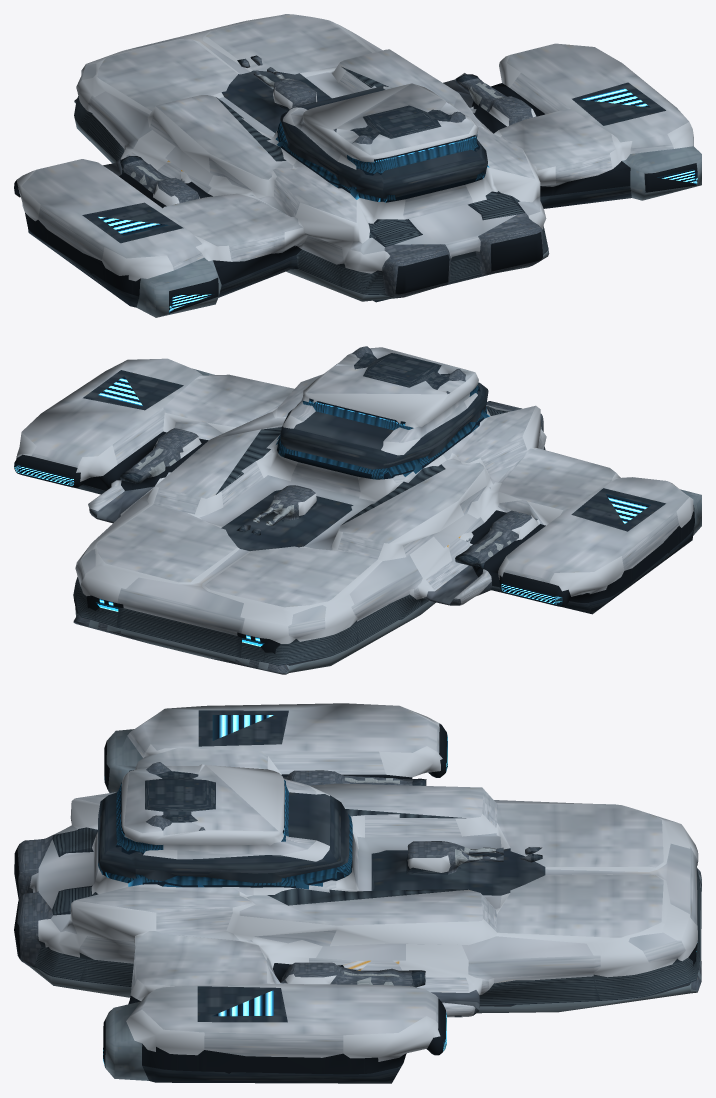
The model's file is alliance_destroyer_recreated_lod2.glb.
The picture shows the model from 3 angles, top to bottom: view 1: azimuth 30°, elevation 25°; view 2: azimuth 150°, elevation 25°; view 3: azimuth 270°, elevation 25°; orthographic projection. The views are drawn at different scales.
Visible parts, largest first — view 1: Alliance Destroyer | Horizon; view 2: Alliance Destroyer | Horizon; view 3: Alliance Destroyer | Horizon.
Boxes of the visible parts, left/top/right/bottom form: Alliance Destroyer | Horizon: left=14, top=14, right=701, bottom=317; Alliance Destroyer | Horizon: left=14, top=346, right=701, bottom=674; Alliance Destroyer | Horizon: left=14, top=703, right=701, bottom=1083.
Bounding box in the file's own units: 1.42 × 0.3234 × 1.23.
1 material, 1 textured.
